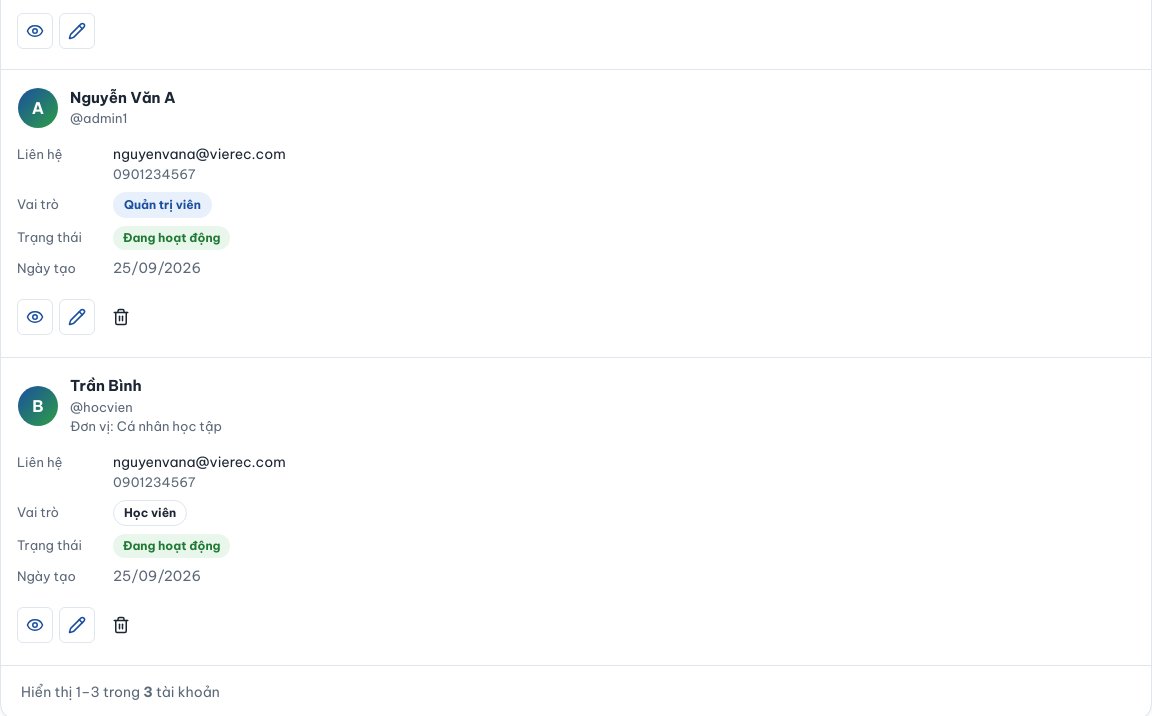
UsersPage › deletes an account after confirmation
The image size is (1152, 716).
(page scrolled)
Click the button named "Xoá tài khoản Trần Bình": (121, 625) [101,605,141,645]
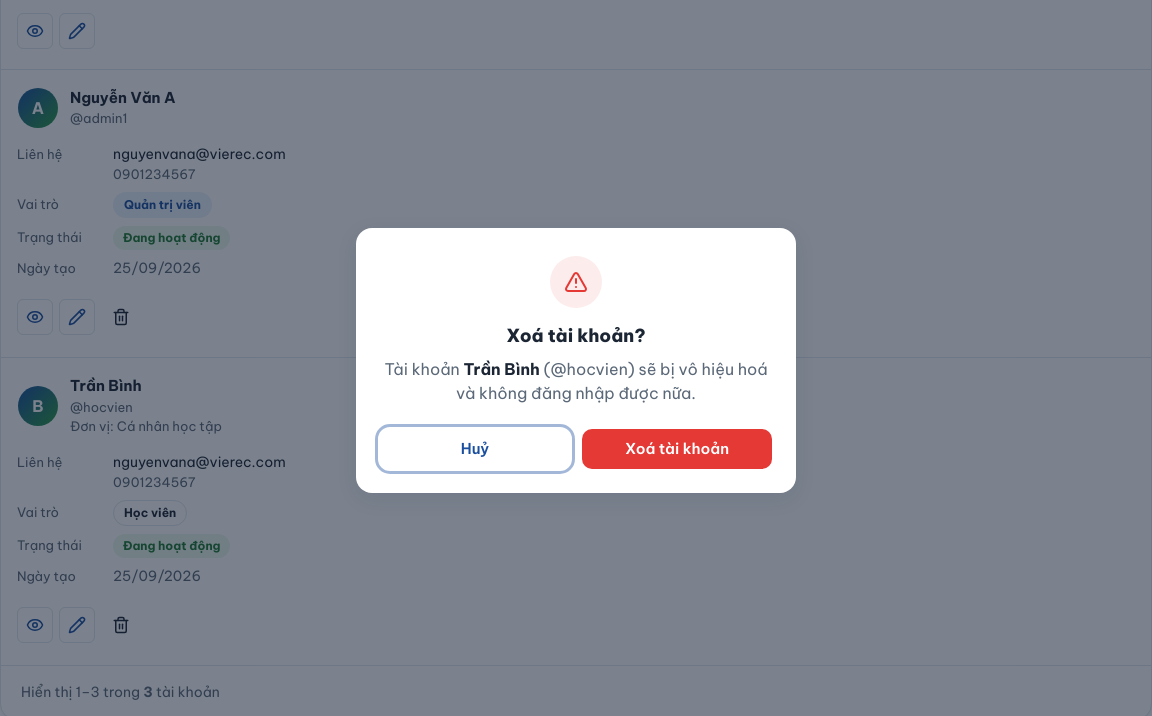
Click the button "Xoá tài khoản": (677, 448) [582,428,772,468]
(page scrolled)
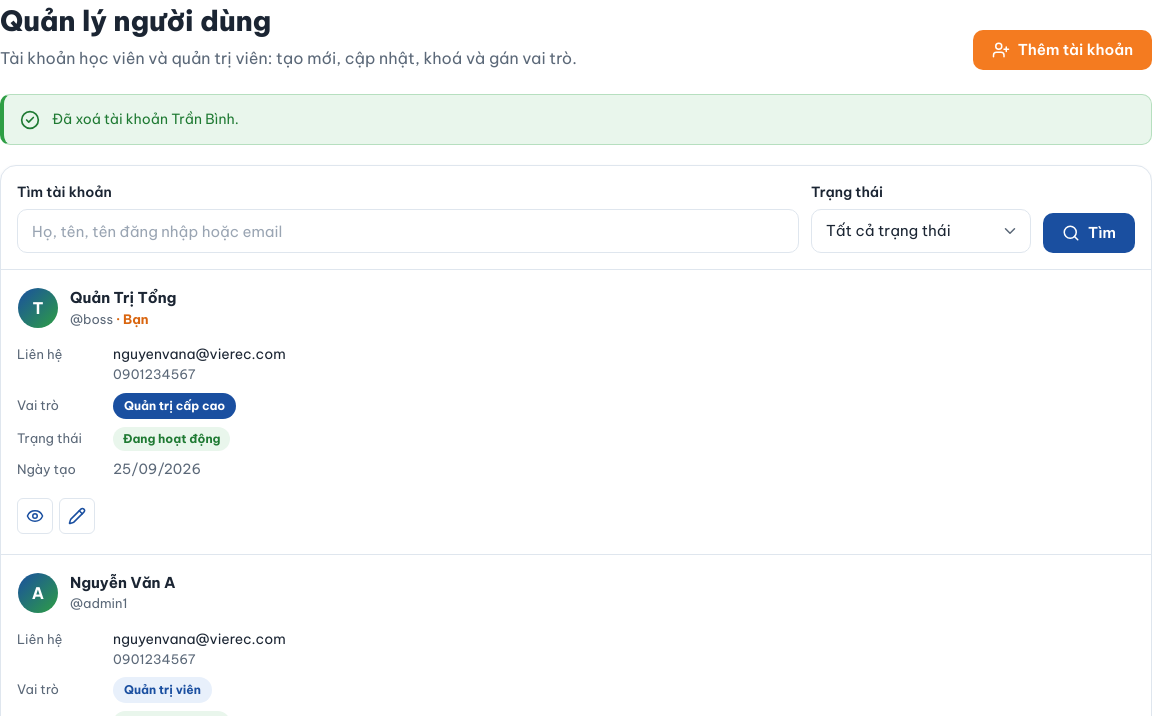
Check: the text "Đã xoá tài khoản Trần Bình." is shown, box [52,109,239,130]
